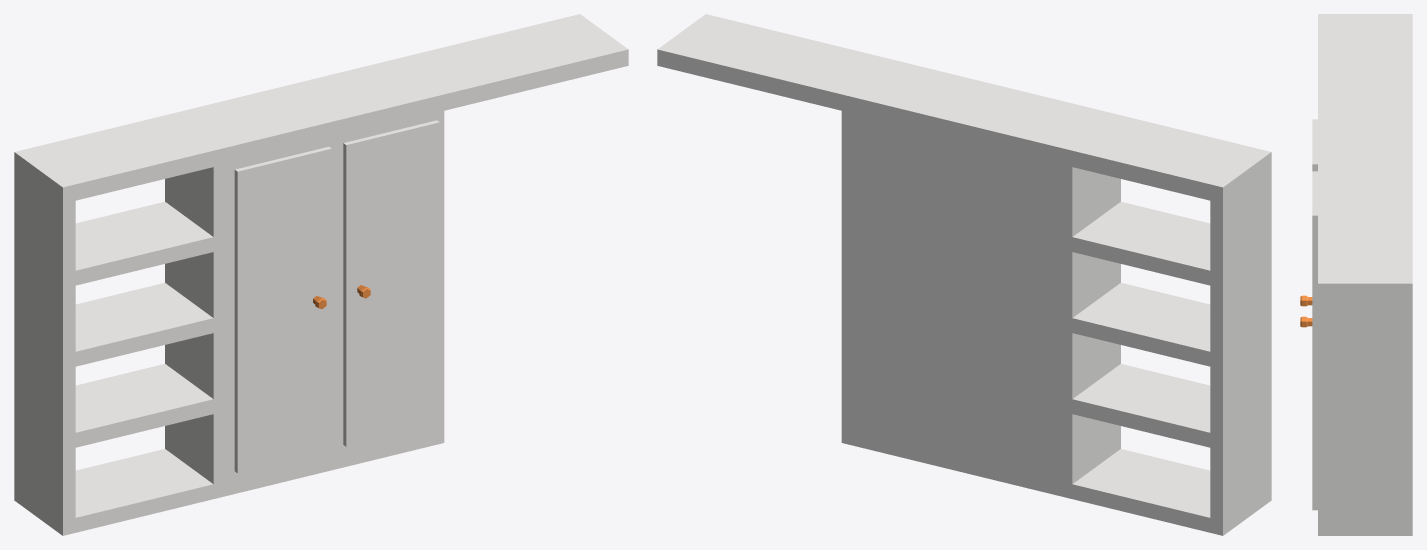
Rendered from Cabinet_2.fbx.
3 views of the same model, side by side, from view 1: azimuth 30°, elevation 25°; view 2: azimuth 150°, elevation 25°; view 3: azimuth 270°, elevation 25° (orthographic). The views are drawn at different scales.
Visible parts, largest first — view 1: Cabinet_2; view 2: Cabinet_2; view 3: Cabinet_2.
Boxes of the visible parts, x1,y1,x2,y2 form: Cabinet_2: (14, 14, 628, 535); Cabinet_2: (657, 14, 1271, 535); Cabinet_2: (1300, 14, 1412, 535).
Size of the model in its own units: 489 by 85.98 by 288.
